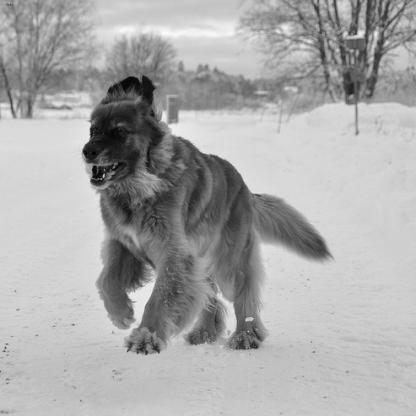Leonberger: (62, 49, 352, 365)
